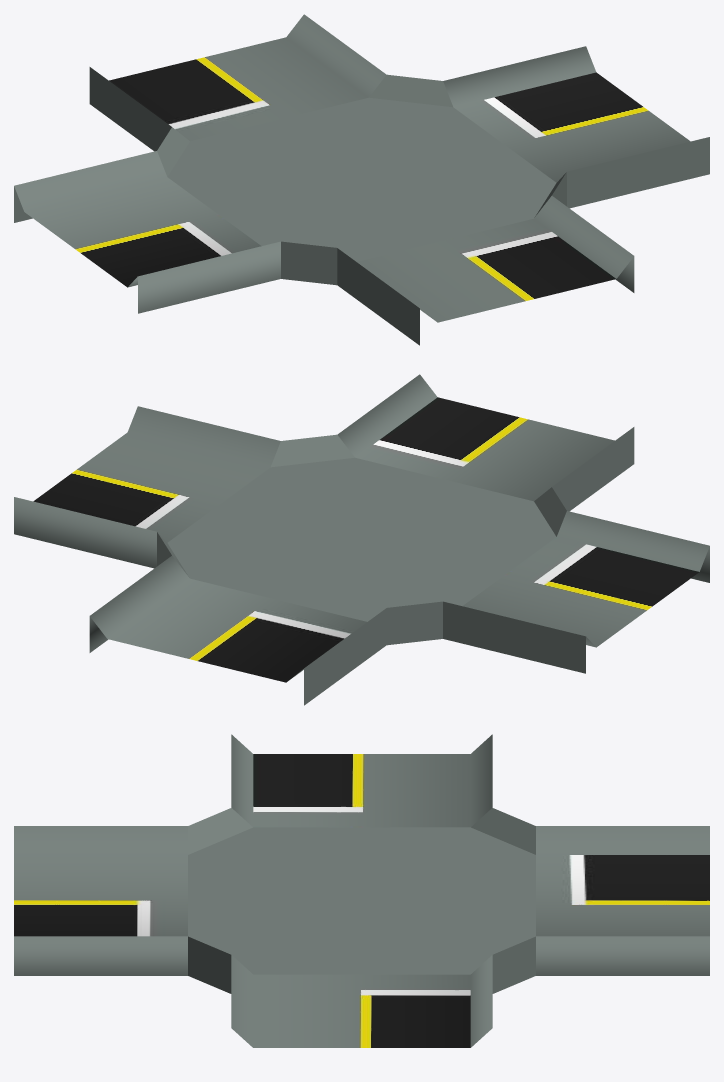
File: intersection_4_lanes_plus.fbx
3 renders of one model, top to bottom at view 1: azimuth 30°, elevation 25°; view 2: azimuth 150°, elevation 25°; view 3: azimuth 270°, elevation 25°, orthographic. The views are drawn at different scales.
Visible parts, largest first — view 1: intersection_4_lanes_plus_01; view 2: intersection_4_lanes_plus_01; view 3: intersection_4_lanes_plus_01.
Part boxes in pixels (x1,y1,x2,y2): intersection_4_lanes_plus_01: (14,14,709,345); intersection_4_lanes_plus_01: (14,374,709,705); intersection_4_lanes_plus_01: (14,734,709,1047).
Bounding box in the file's own units: 64 × 4 × 64.
